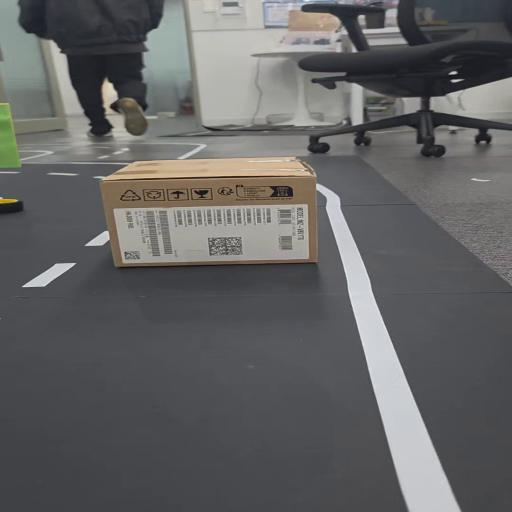Box: (95, 154, 328, 268)
